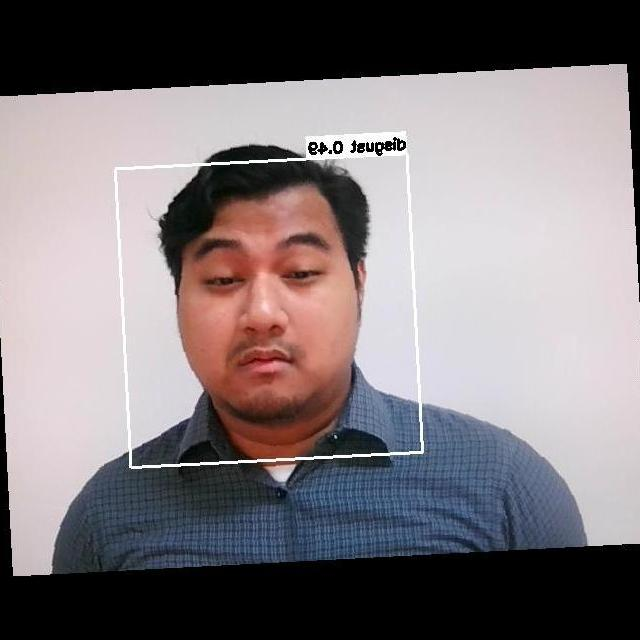Fear: (181, 210, 355, 403)
